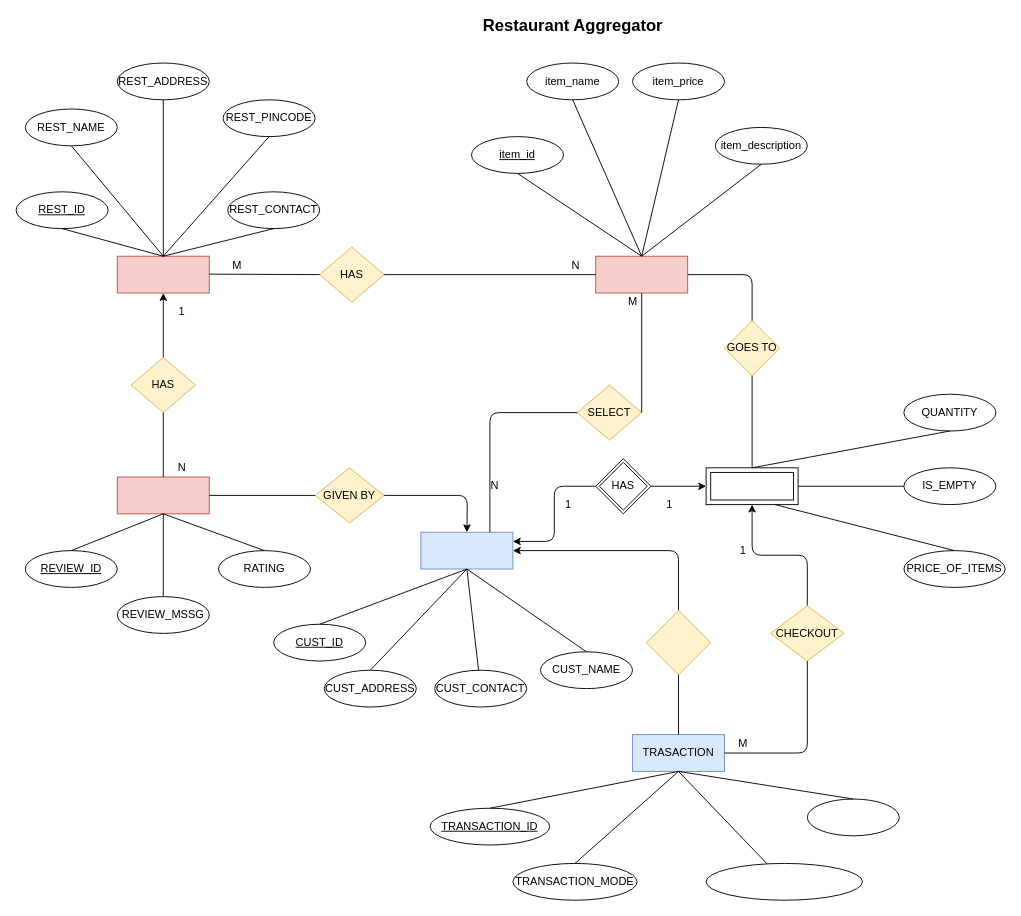
The diagram is 1021 pixels wide and 916 high, and some of its shapes have lost their labels. Here are the shapes that lost their labels. From the top down, the centre of each, then its label:
the point at 162,274: RESTAURANTS
the point at 641,274: ITEMS
the point at 162,495: REVIEWS
the point at 751,486: CART
the point at 466,550: CUSTOMERS
the point at 678,642: makes payment
the point at 852,817: TOTAL_AMOUNT
the point at 783,881: TRANSACTION_TIMESTAMP
